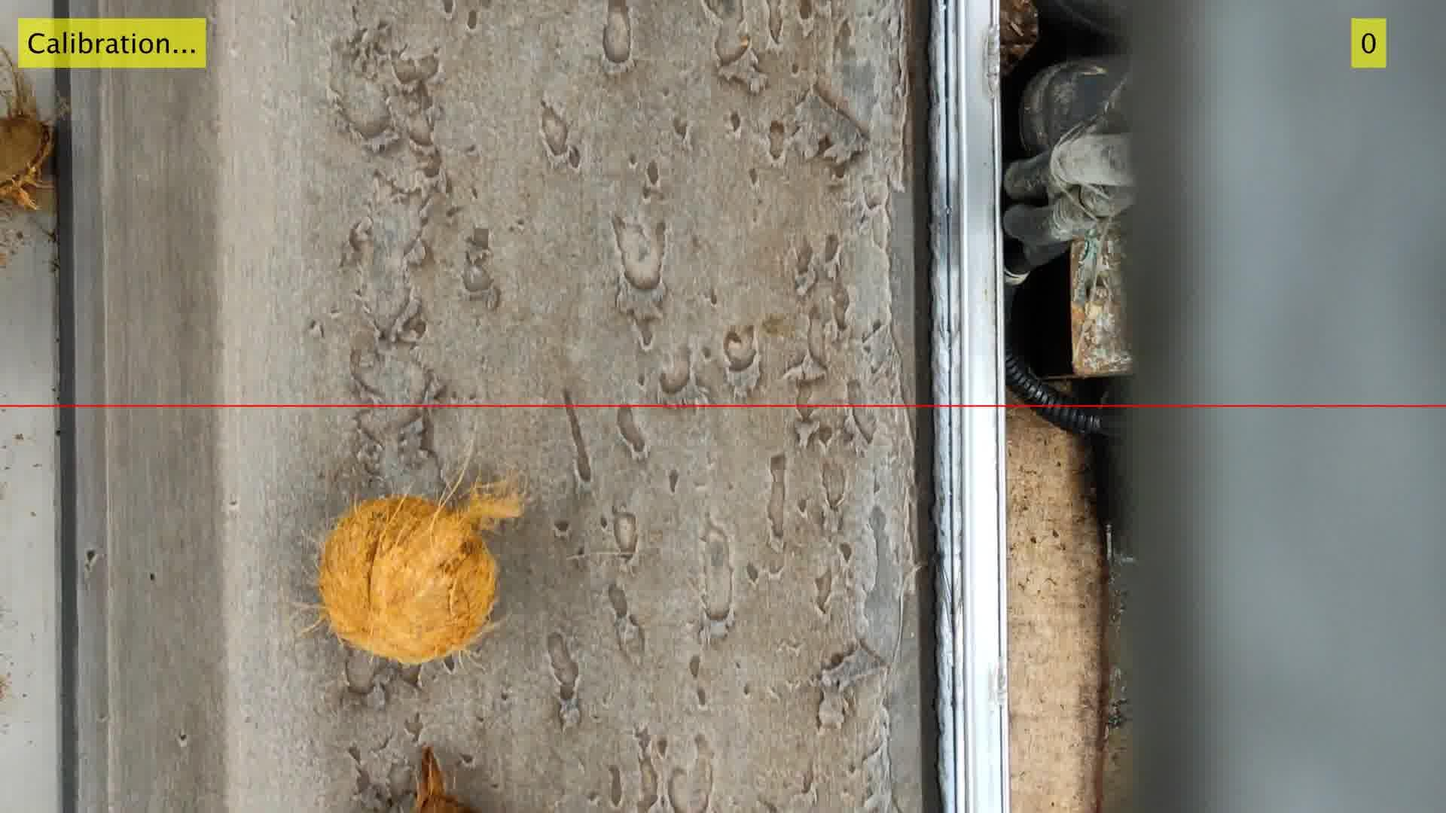Coconut: (316, 471, 528, 665), (413, 746, 474, 812)
